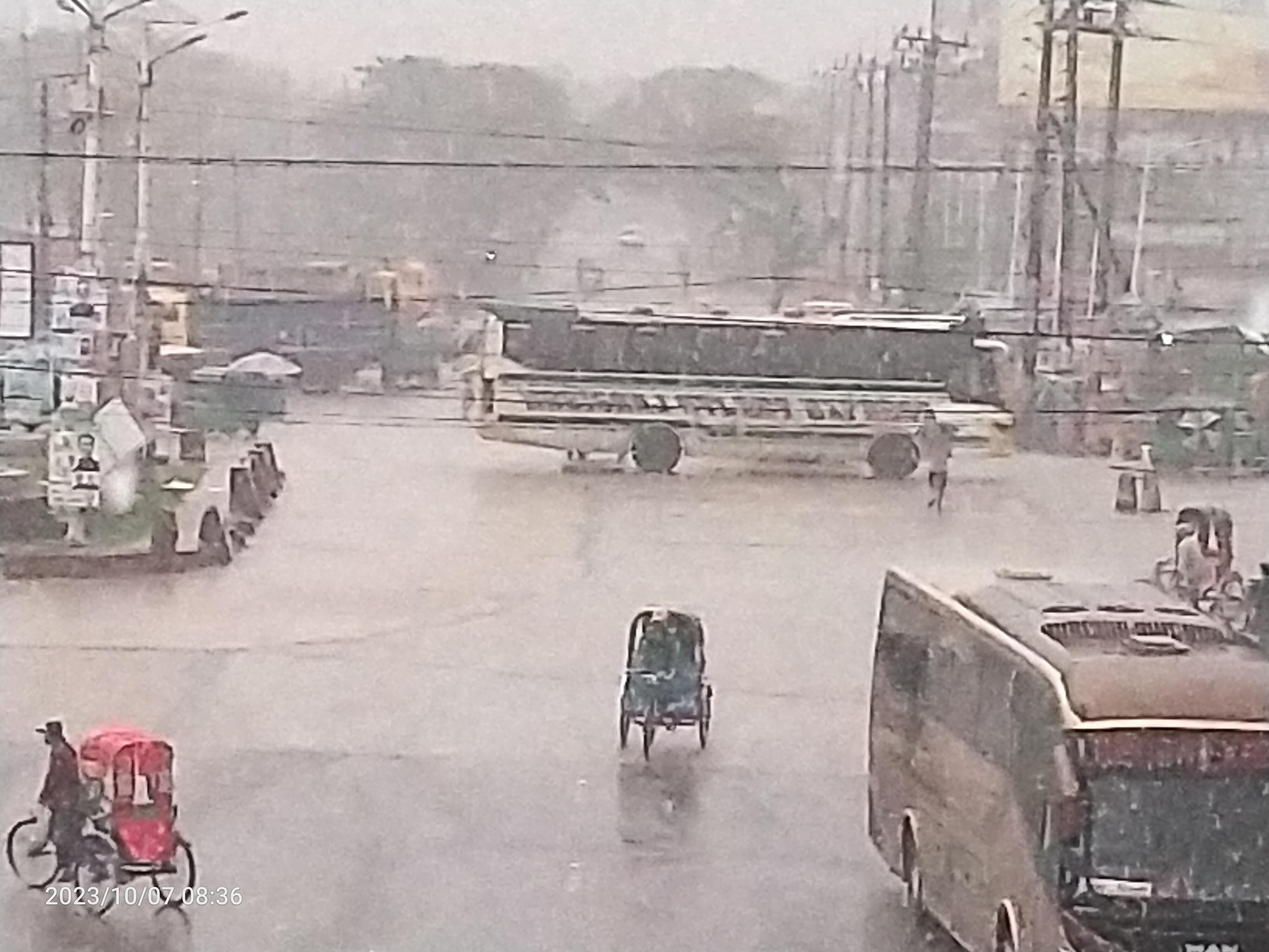Bus: (843, 506, 1269, 952), (443, 273, 1039, 509)
Car: (0, 689, 230, 934), (538, 585, 758, 820)
Truck: (95, 260, 353, 411)
